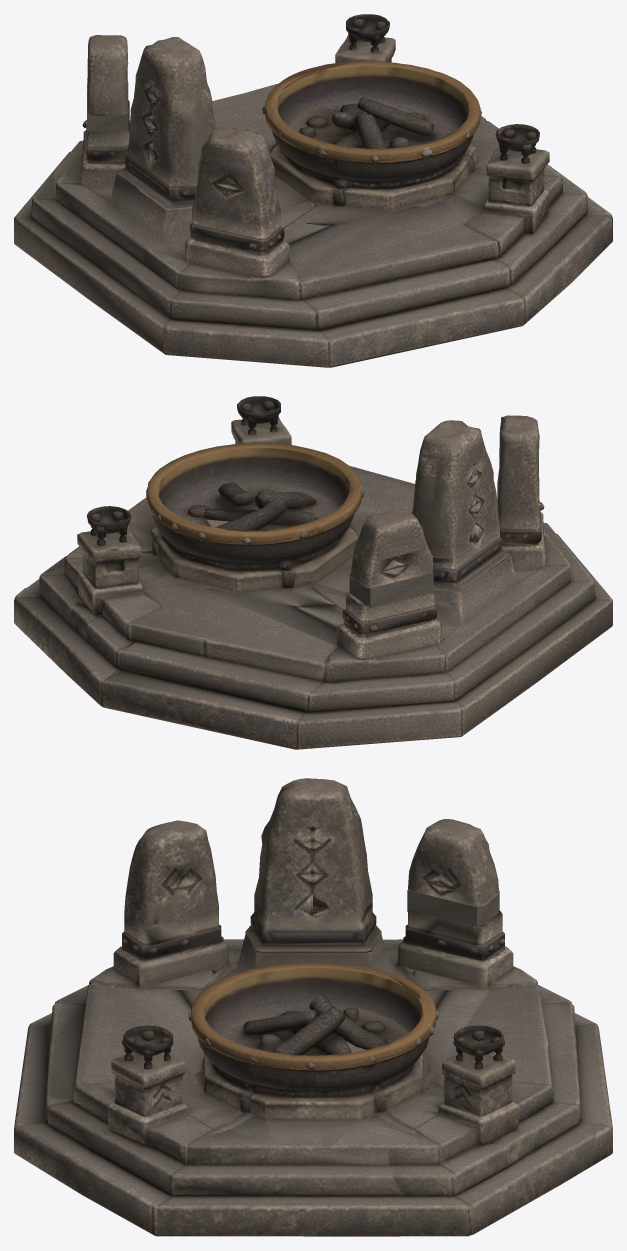
Rendered from ocak-sv5.glb.
3 views of the same model, one above another, from view 1: azimuth 30°, elevation 25°; view 2: azimuth 150°, elevation 25°; view 3: azimuth 270°, elevation 25° (orthographic). The views are drawn at different scales.
Parts seen in each view (by area): view 1: tripo_node_e4e41e9a-3c42-4618-9c29-a282922947f8; view 2: tripo_node_e4e41e9a-3c42-4618-9c29-a282922947f8; view 3: tripo_node_e4e41e9a-3c42-4618-9c29-a282922947f8.
Boxes of the visible parts, <box> form: tripo_node_e4e41e9a-3c42-4618-9c29-a282922947f8: <box>14,14,612,367</box>; tripo_node_e4e41e9a-3c42-4618-9c29-a282922947f8: <box>14,396,612,749</box>; tripo_node_e4e41e9a-3c42-4618-9c29-a282922947f8: <box>14,778,612,1236</box>.
Bounding box in the file's own units: 0.9628 × 0.4677 × 1.
Materials: 2 (2 with a texture image).
